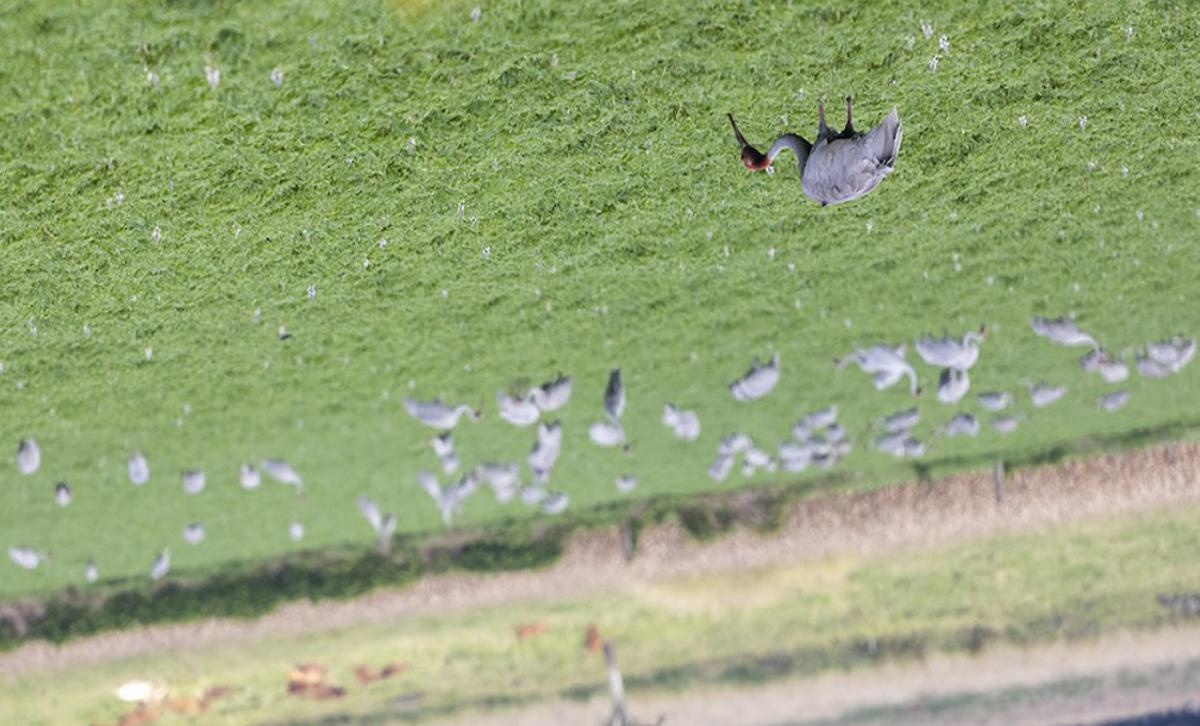crane: (735, 96, 921, 206)
